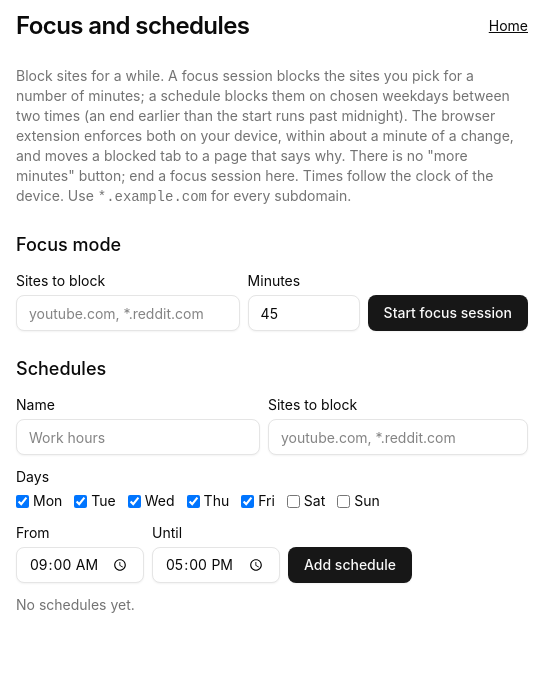
Test: focus session › starts a session for the sites and minutes, and shows it running with its end
The width and height of the screenshot is (545, 700).
Type "YouTube.com, *.reddit.com" into the field labelled "Sites to block" below "Focus mode" at (128, 313), box [16,295,240,331]
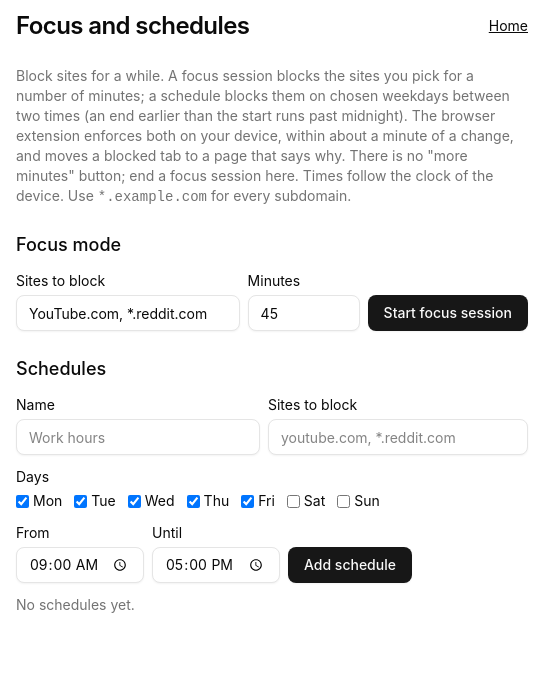
Replace the text in the number field labelled "Minutes" with "30" at (304, 313), box [248,295,360,331]
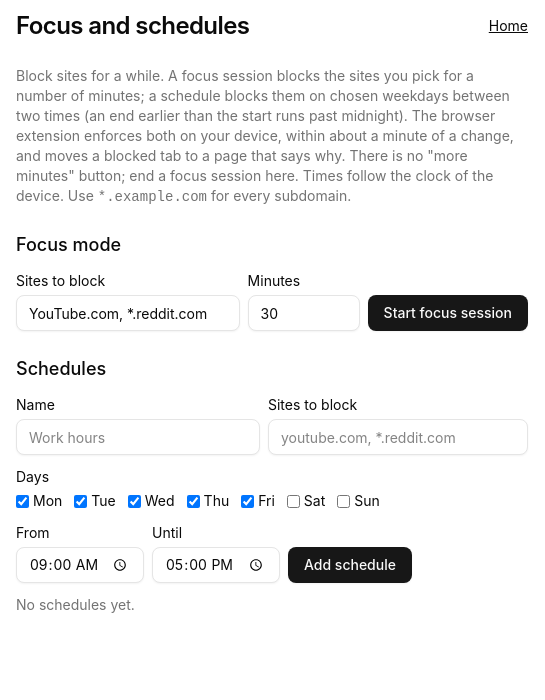
Click the button "Start focus session" at (448, 313), box [368,295,528,331]
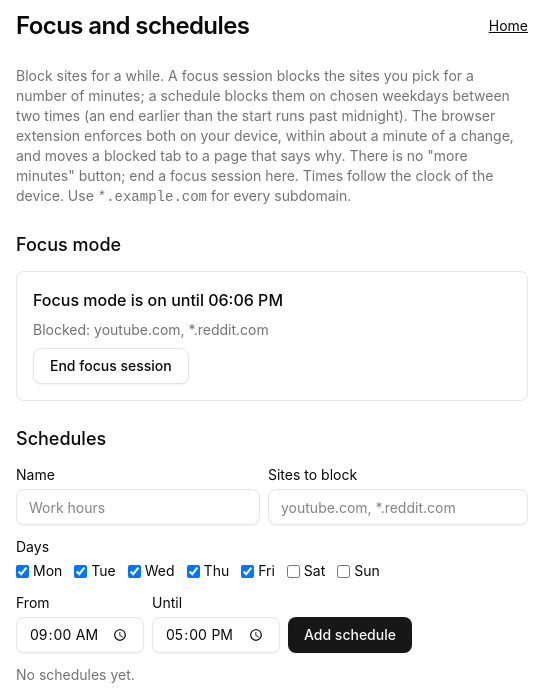
Check: the text "Focus mode is on until 06:06 PM" is shown, box [33,290,283,310]
Check: the text "Blocked: youtube.com, *.reddit.com" is shown, box [33,321,269,338]
